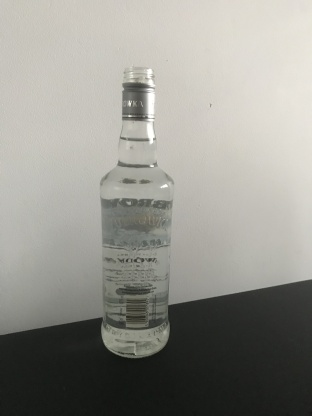nakretka: (120, 64, 157, 121)
